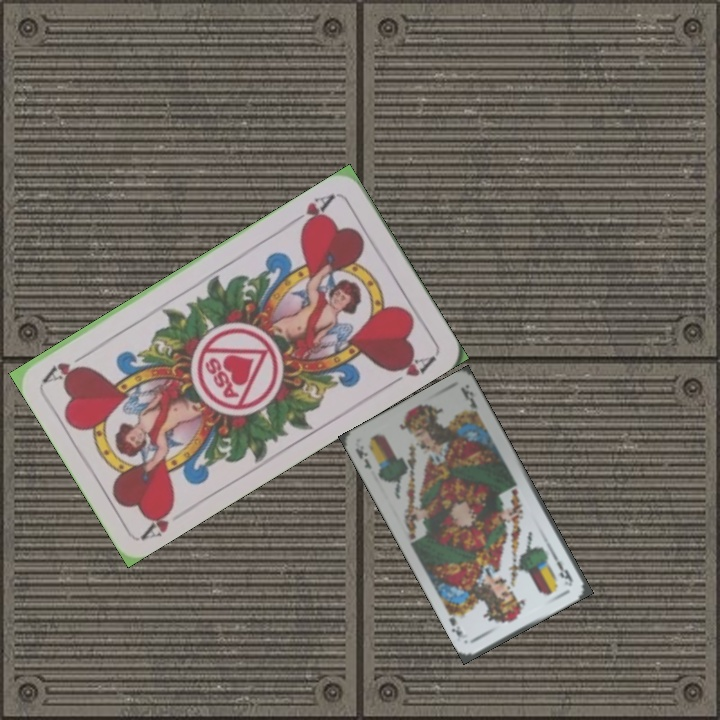EK: (548, 550, 576, 585), (351, 444, 374, 472)
HA: (285, 190, 339, 233), (138, 497, 179, 542)
